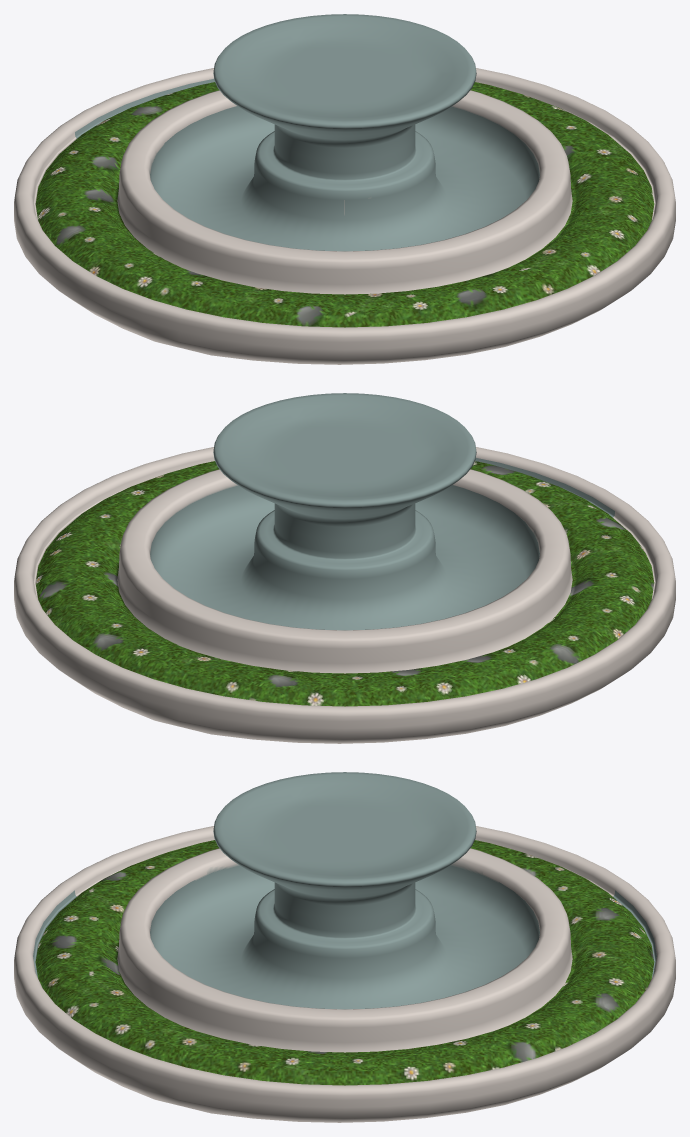
The model's file is Fuente sin agua.fbx.
The picture shows the model from 3 angles, top to bottom: view 1: azimuth 30°, elevation 25°; view 2: azimuth 150°, elevation 25°; view 3: azimuth 270°, elevation 25°; orthographic projection.
Parts seen in each view (by area): view 1: pDisc5; view 2: pDisc5; view 3: pDisc5.
Part boxes in pixels (x1,y1,x2,y2): pDisc5: (14,14,675,364); pDisc5: (14,393,675,743); pDisc5: (14,772,675,1122).
Size of the model in its own units: 23.96 by 6.57 by 23.96.
Materials: 1 (1 with a texture image).
